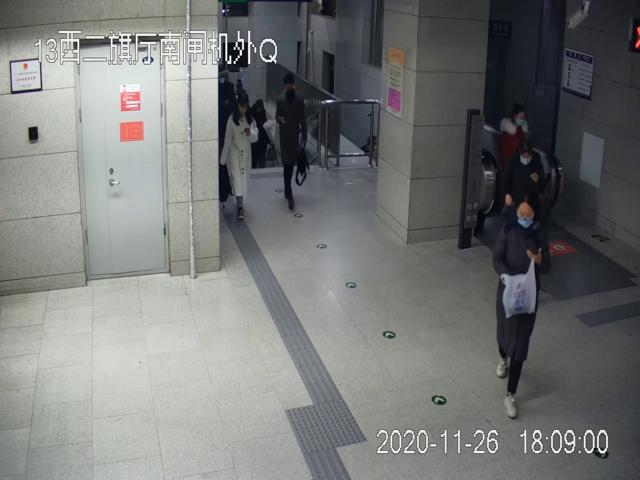person: (492, 196, 549, 416), (221, 89, 257, 219), (274, 71, 307, 212)
